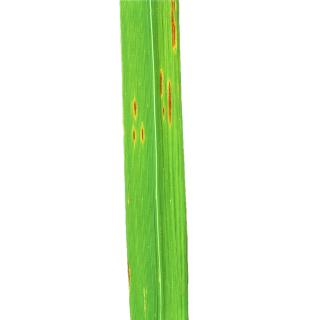Bercak-Cokelat-Sempit: (161, 0, 180, 56), (157, 67, 173, 131), (129, 98, 139, 146)
